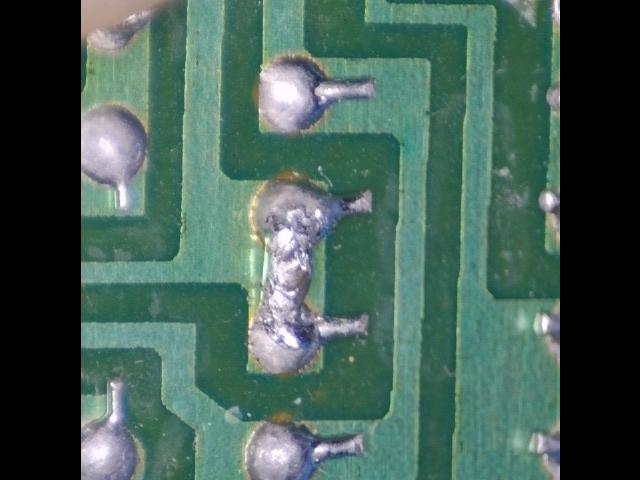Short_circuit: (251, 184, 343, 374)
